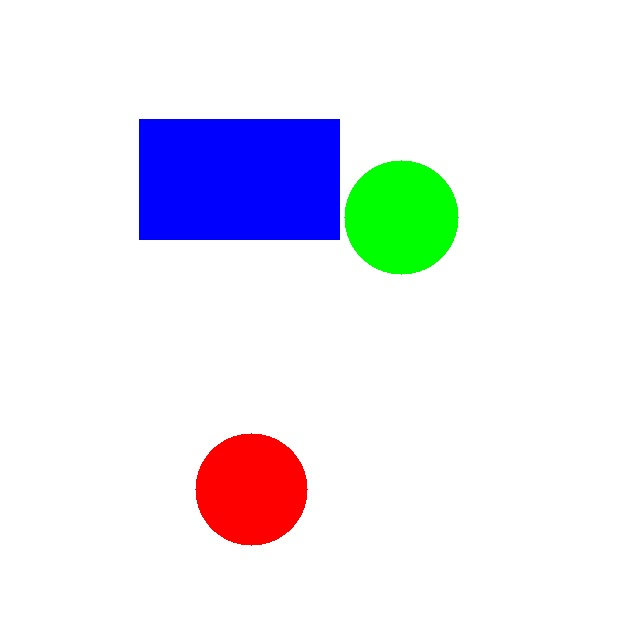cartao: (139, 119, 339, 239)
rosca_externa: (344, 160, 458, 274)
rosca_interna: (195, 433, 307, 545)
